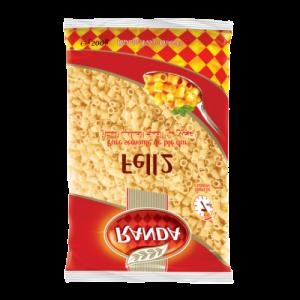Fell: (68, 20, 230, 282)
